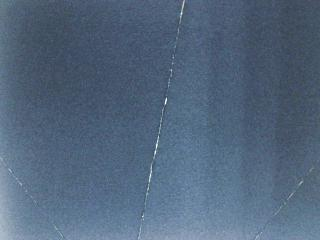crack: (134, 0, 190, 240), (0, 156, 65, 240), (252, 162, 320, 240)
